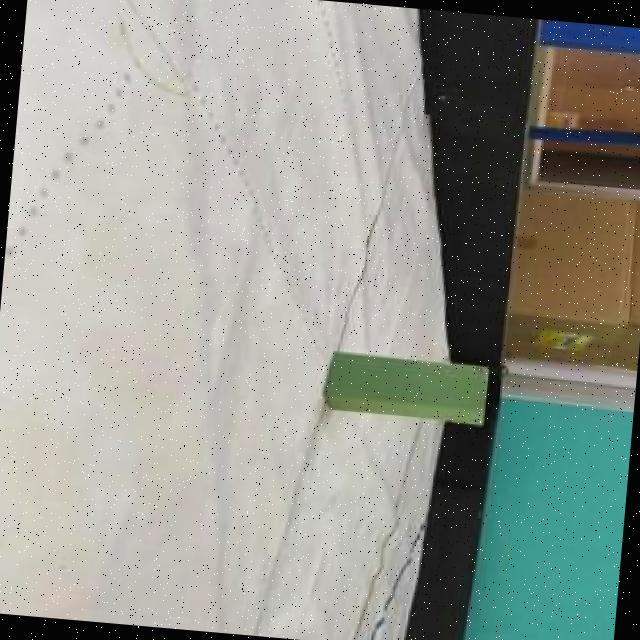greenbox: (322, 346, 492, 426)
